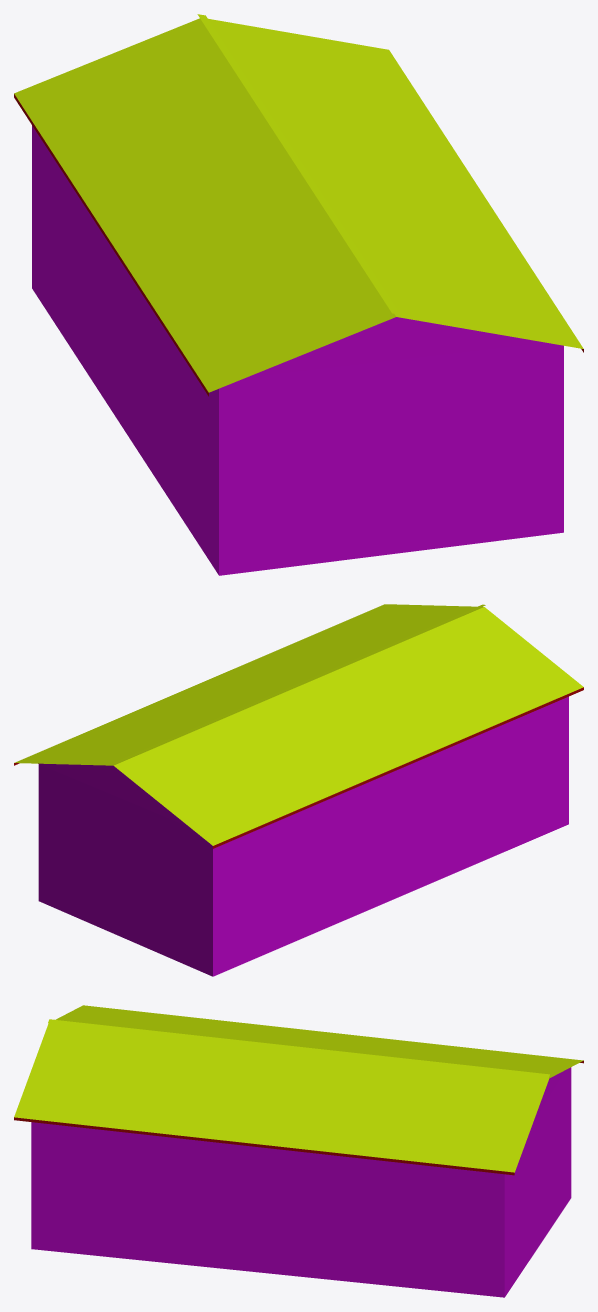
Rendered from srz_17.glb.
The picture shows the model from 3 angles, top to bottom: view 1: azimuth 30°, elevation 25°; view 2: azimuth 150°, elevation 25°; view 3: azimuth 270°, elevation 25°; orthographic projection. The views are drawn at different scales.
Parts seen in each view (by area): view 1: srz_17; view 2: srz_17; view 3: srz_17.
Part boxes in pixels (x1=…): srz_17: x1=14, y1=14, x2=583, y2=575; srz_17: x1=14, y1=604, x2=583, y2=976; srz_17: x1=14, y1=1005, x2=583, y2=1297.
Bounding box in the file's own units: 15.3 × 7.47 × 22.03.
